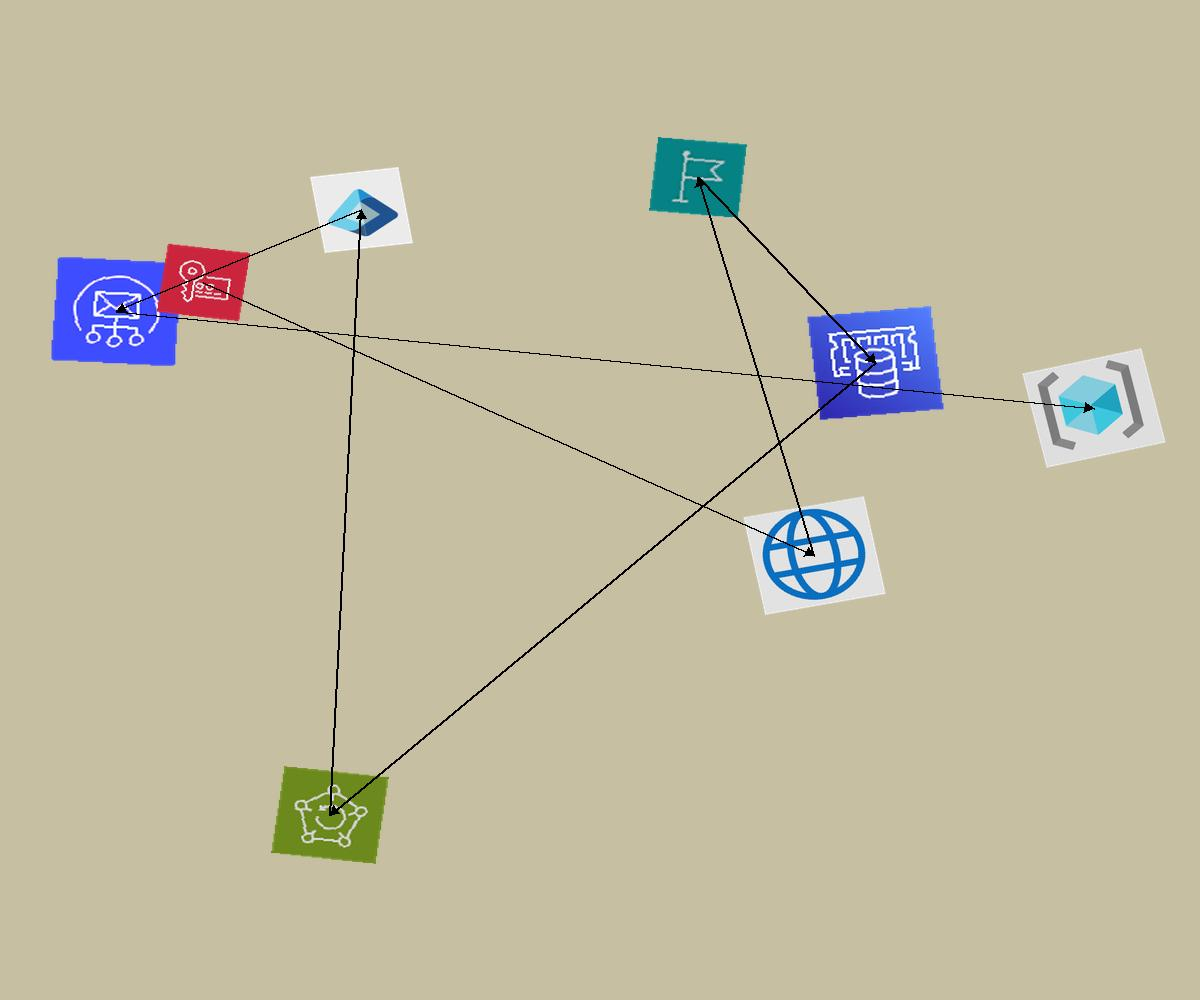AWS-Backup: (271, 766, 389, 864)
AWS-ElastiCache: (806, 305, 945, 421)
AWS-Key-Management-Service: (156, 243, 251, 322)
AWS-Region: (649, 137, 747, 218)
AWS-Simple-Email-Service: (50, 256, 183, 367)
Azure_http: (743, 496, 886, 615)
Azure_microsoft_entra: (310, 167, 413, 253)
Azure_resource_group: (1022, 348, 1166, 468)
